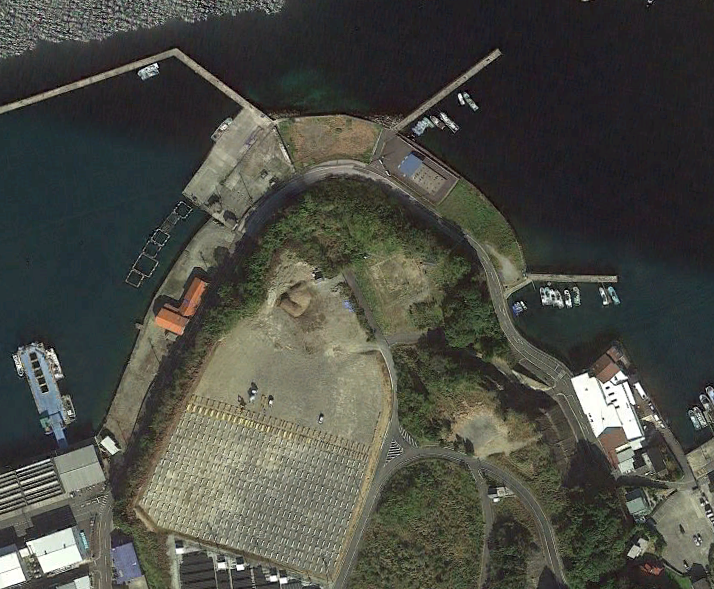house: (25, 529, 87, 577), (48, 443, 106, 492), (105, 536, 147, 583), (151, 304, 193, 339), (181, 273, 211, 317), (595, 351, 625, 385), (2, 546, 22, 589), (624, 536, 653, 563), (630, 480, 648, 521), (97, 429, 121, 459), (482, 484, 511, 504), (221, 215, 241, 231)
ship: (210, 114, 239, 148), (136, 59, 164, 81), (44, 348, 62, 379), (60, 392, 76, 420), (460, 92, 482, 111), (10, 352, 26, 377), (441, 113, 460, 133), (685, 406, 699, 431), (695, 404, 709, 428), (607, 283, 621, 304), (597, 287, 612, 305), (561, 289, 573, 307), (572, 283, 581, 306), (544, 287, 554, 305), (554, 289, 563, 307), (432, 117, 444, 128), (516, 300, 525, 312), (422, 120, 432, 127), (418, 125, 427, 132), (413, 129, 422, 136)
square: (132, 251, 160, 278), (143, 240, 162, 260), (150, 228, 170, 246), (124, 267, 141, 287), (175, 201, 190, 218), (167, 213, 182, 224), (161, 220, 173, 233)
